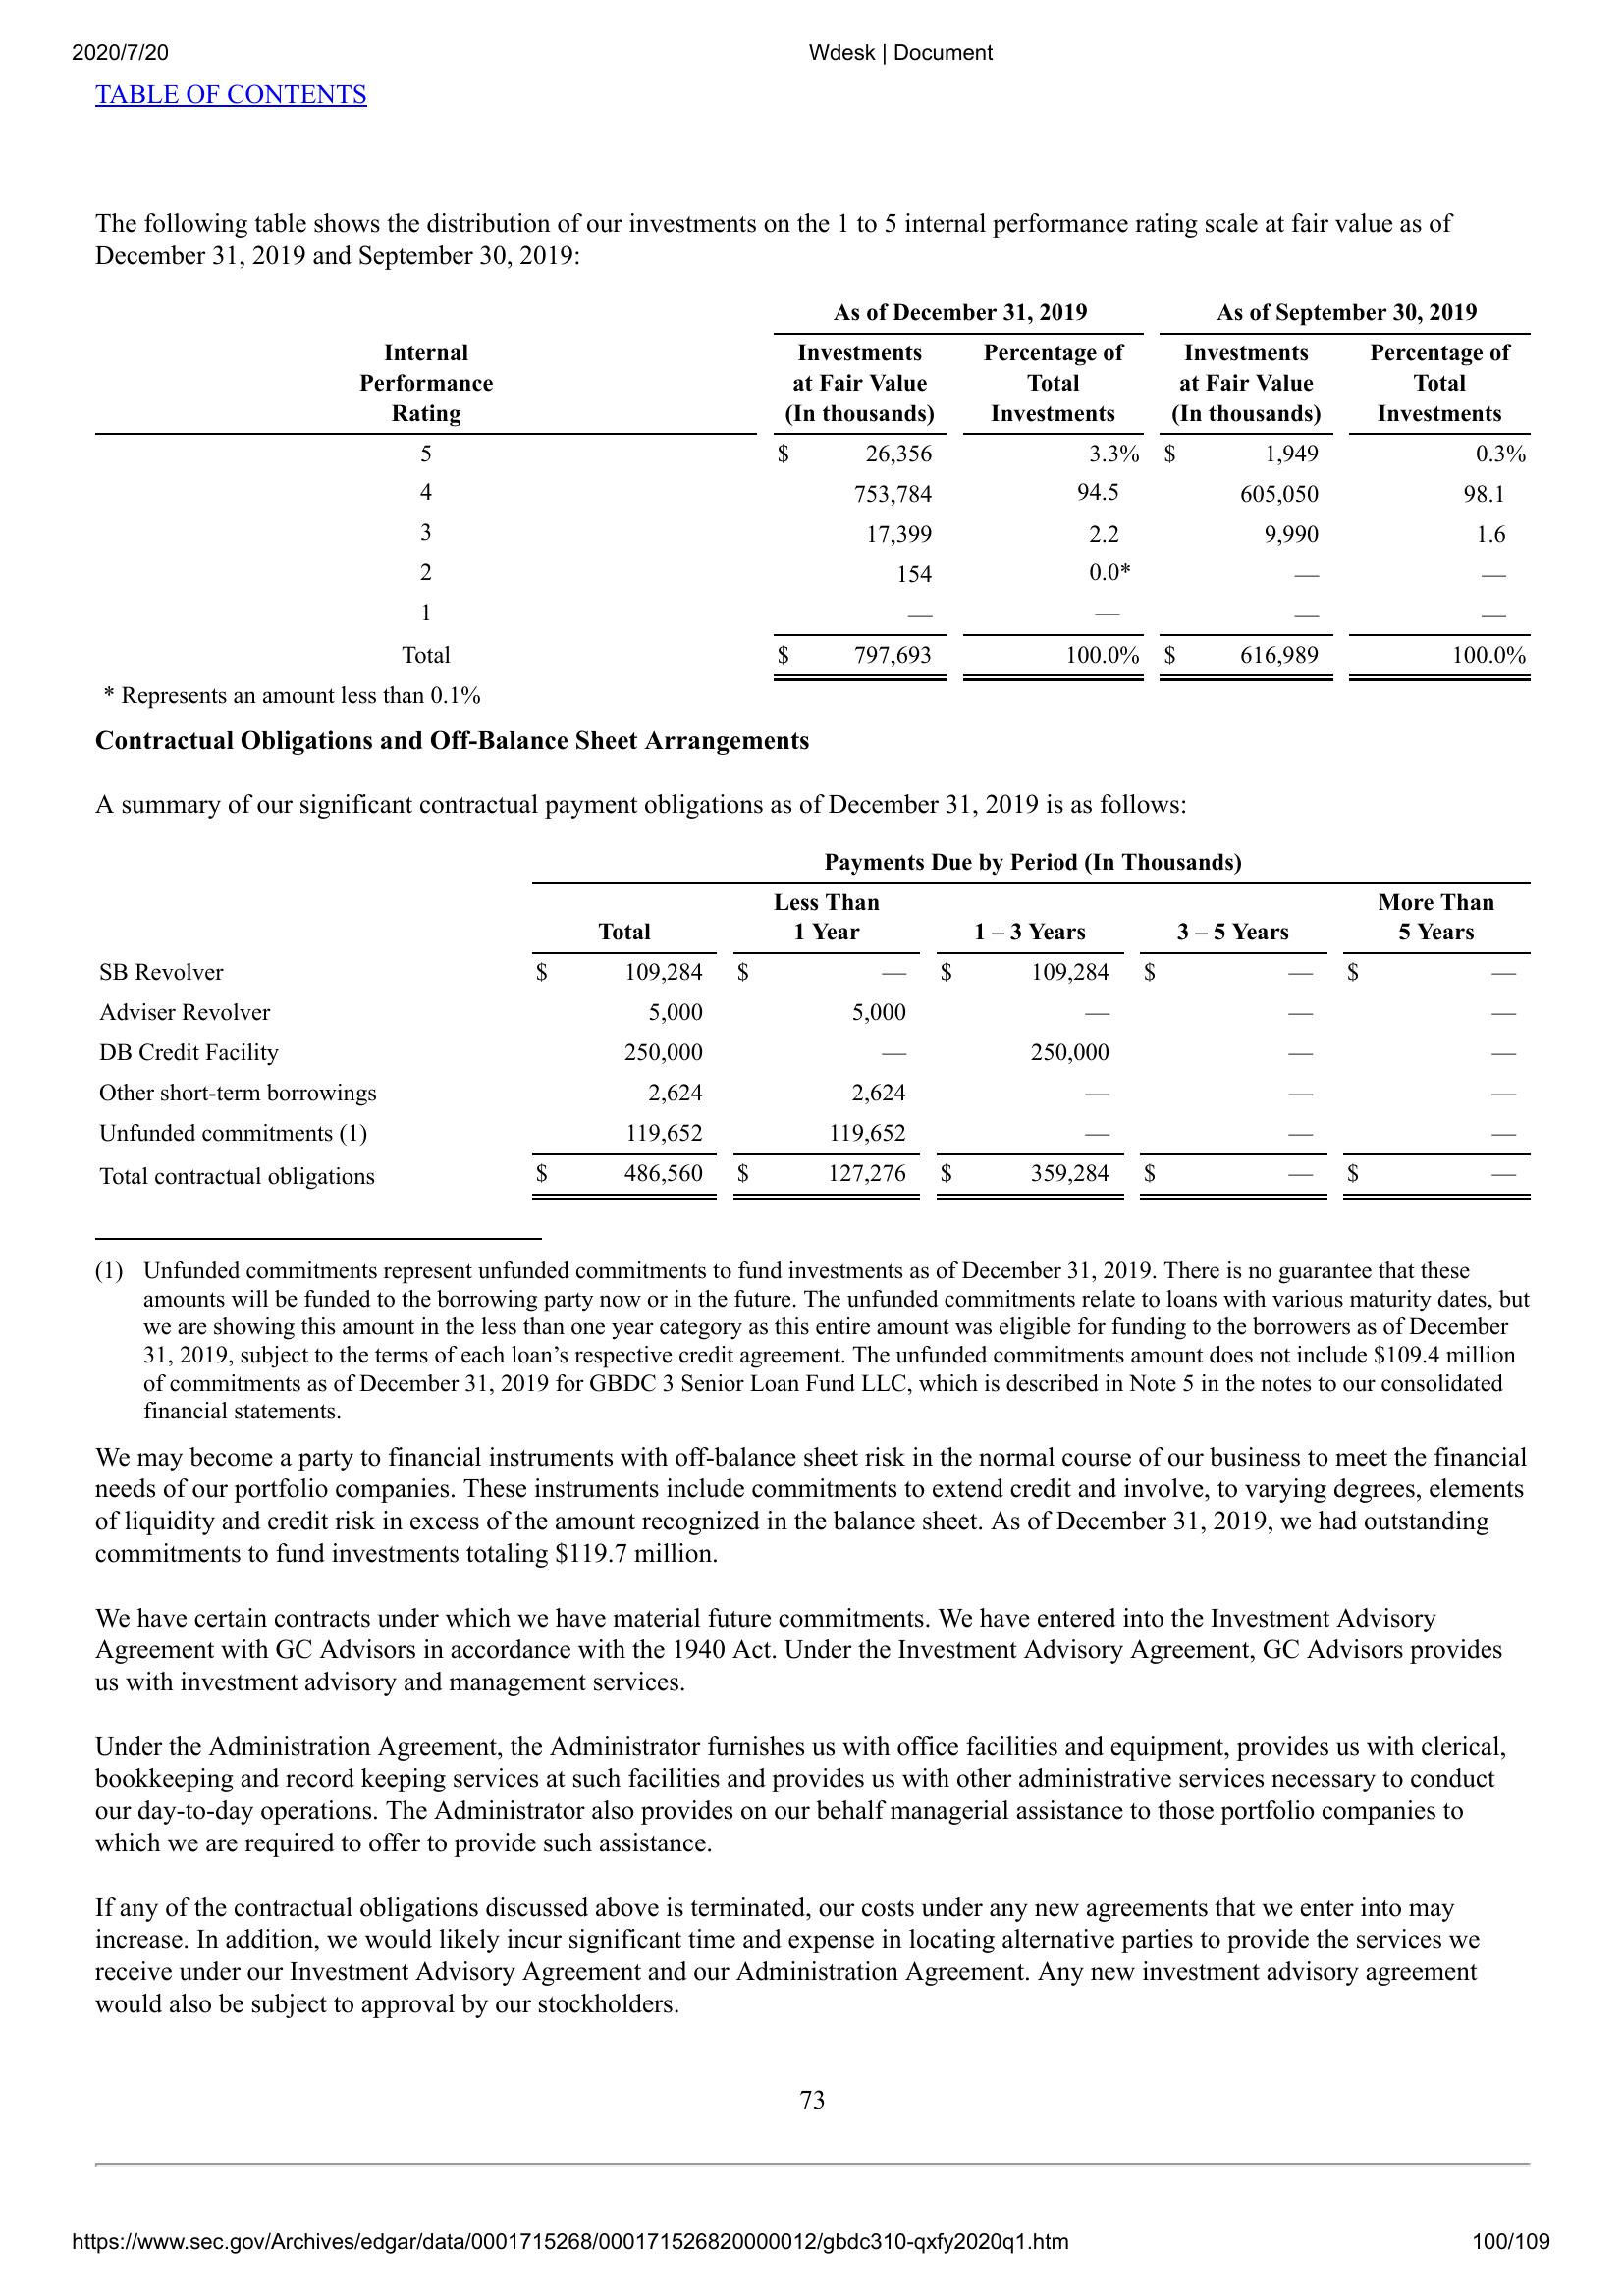table: (88, 297, 1535, 693), (98, 851, 1544, 1211)
